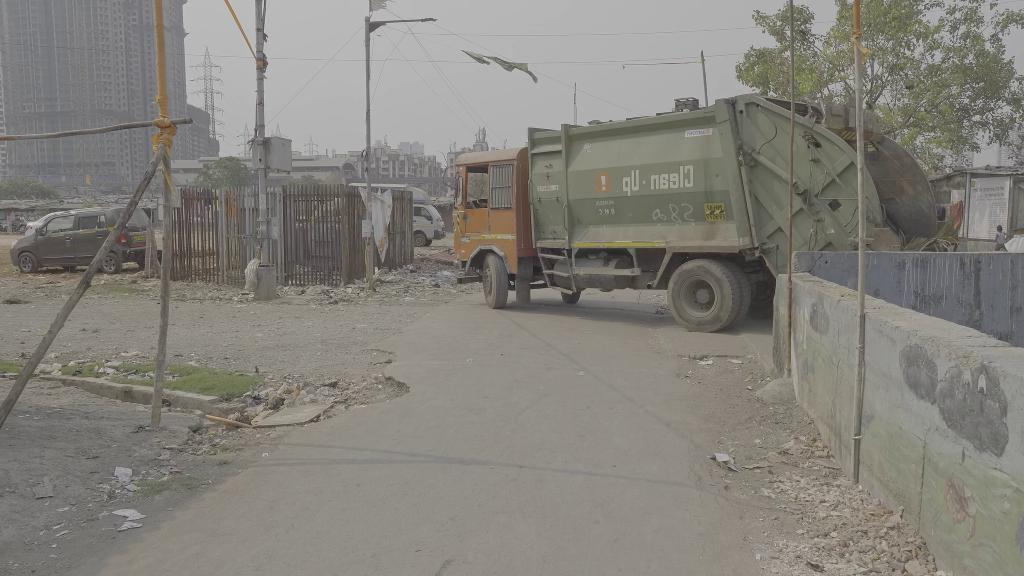garbage: (240, 256, 266, 295)
